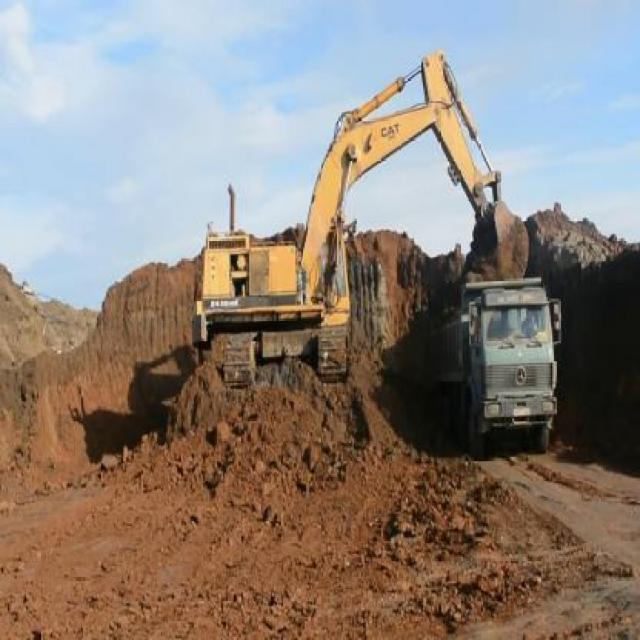Dump Truck: (428, 276, 561, 452)
Excavator: (189, 50, 528, 408)
